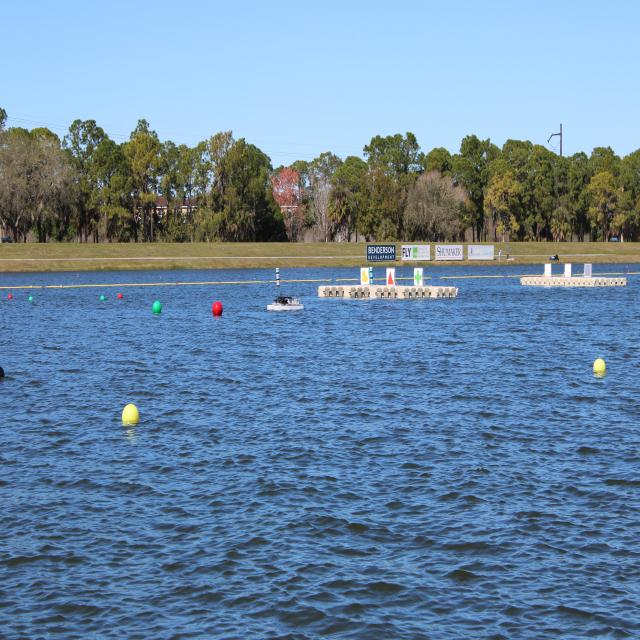blue-cross: (412, 266, 424, 287)
green-buoy: (152, 302, 162, 316), (98, 295, 104, 301)
red-buoy: (213, 300, 223, 316), (120, 292, 126, 300), (8, 293, 13, 300)
red-dot: (384, 266, 395, 285)
yellow-buoy: (123, 405, 141, 427), (593, 357, 607, 375)
yellow-duck: (361, 266, 372, 286)
